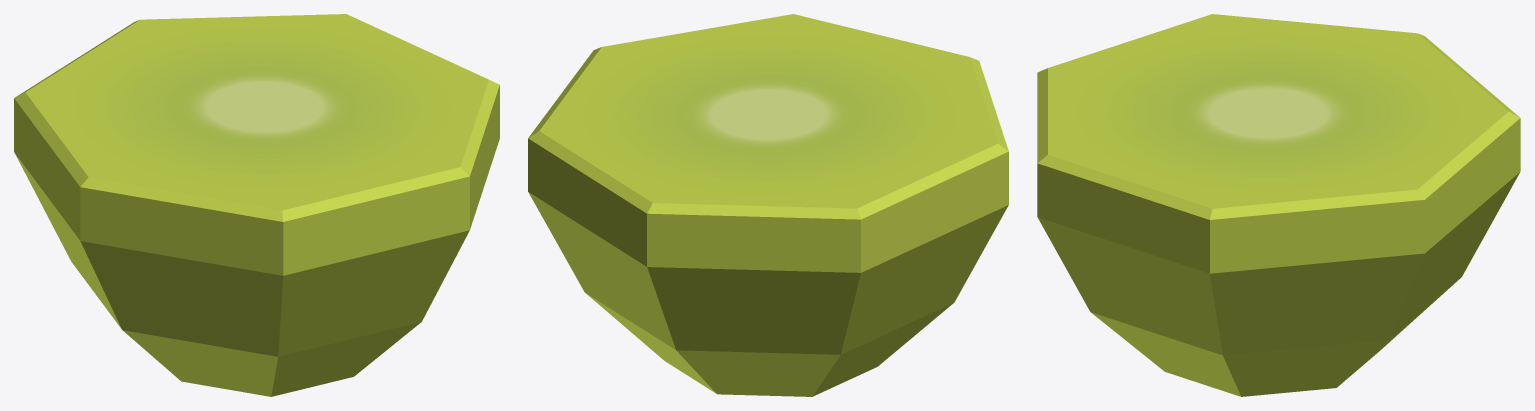
The model's file is right_muscat.fbx.
The picture shows the model from 3 angles, left to right: view 1: azimuth 30°, elevation 25°; view 2: azimuth 150°, elevation 25°; view 3: azimuth 270°, elevation 25°; orthographic projection.
Parts seen in each view (by area): view 1: 円.007; view 2: 円.007; view 3: 円.007.
Part boxes in pixels (<box>): 円.007: <box>14,14,499,396</box>; 円.007: <box>528,14,1008,396</box>; 円.007: <box>1037,14,1520,396</box>.
Size of the model in its own units: 250 by 145 by 250.
